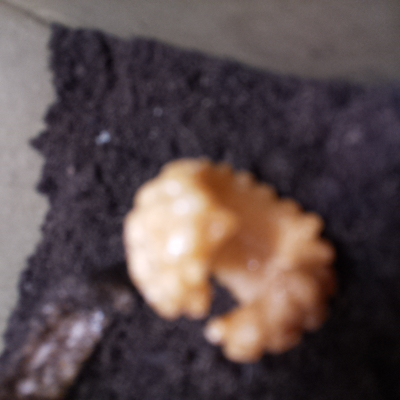eggs: (112, 145, 342, 369)
